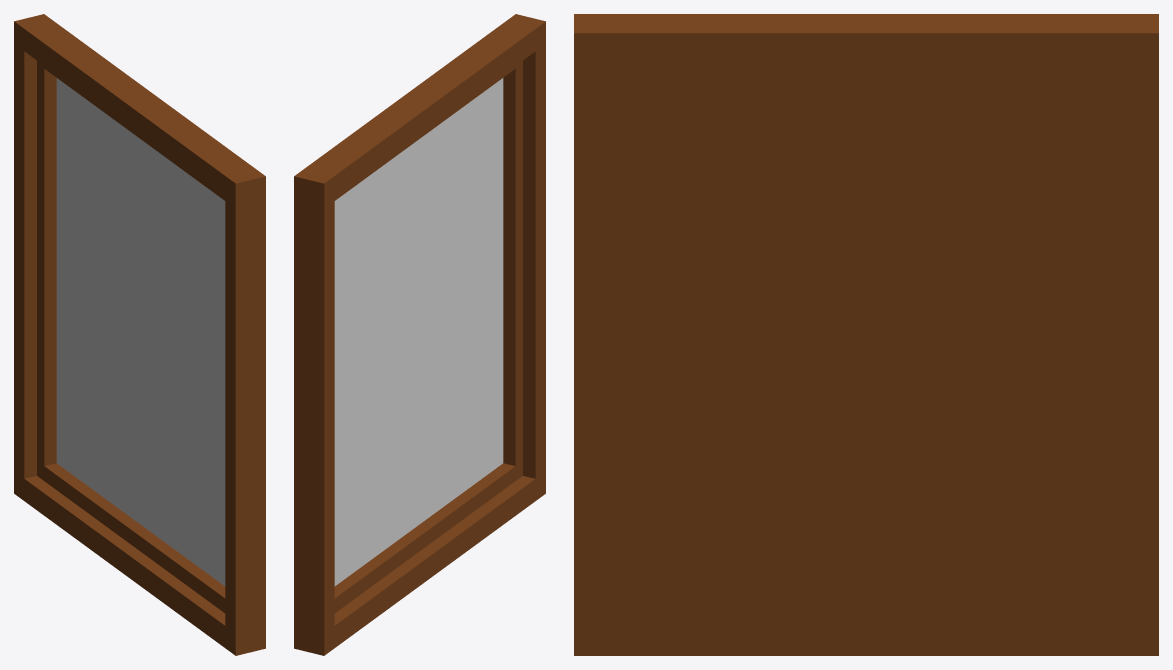
Rendered from picture_frame_2.fbx.
The picture shows the model from 3 angles, left to right: view 1: azimuth 30°, elevation 25°; view 2: azimuth 150°, elevation 25°; view 3: azimuth 270°, elevation 25°; orthographic projection. The views are drawn at different scales.
Parts seen in each view (by area): view 1: Cube.031; view 2: Cube.031; view 3: Cube.031.
Part boxes in pixels (left/top/right/bottom): Cube.031: left=14, top=14, right=265, bottom=655; Cube.031: left=294, top=14, right=545, bottom=655; Cube.031: left=574, top=14, right=1158, bottom=655.
Size of the model in its own units: 15.68 by 235 by 200.
